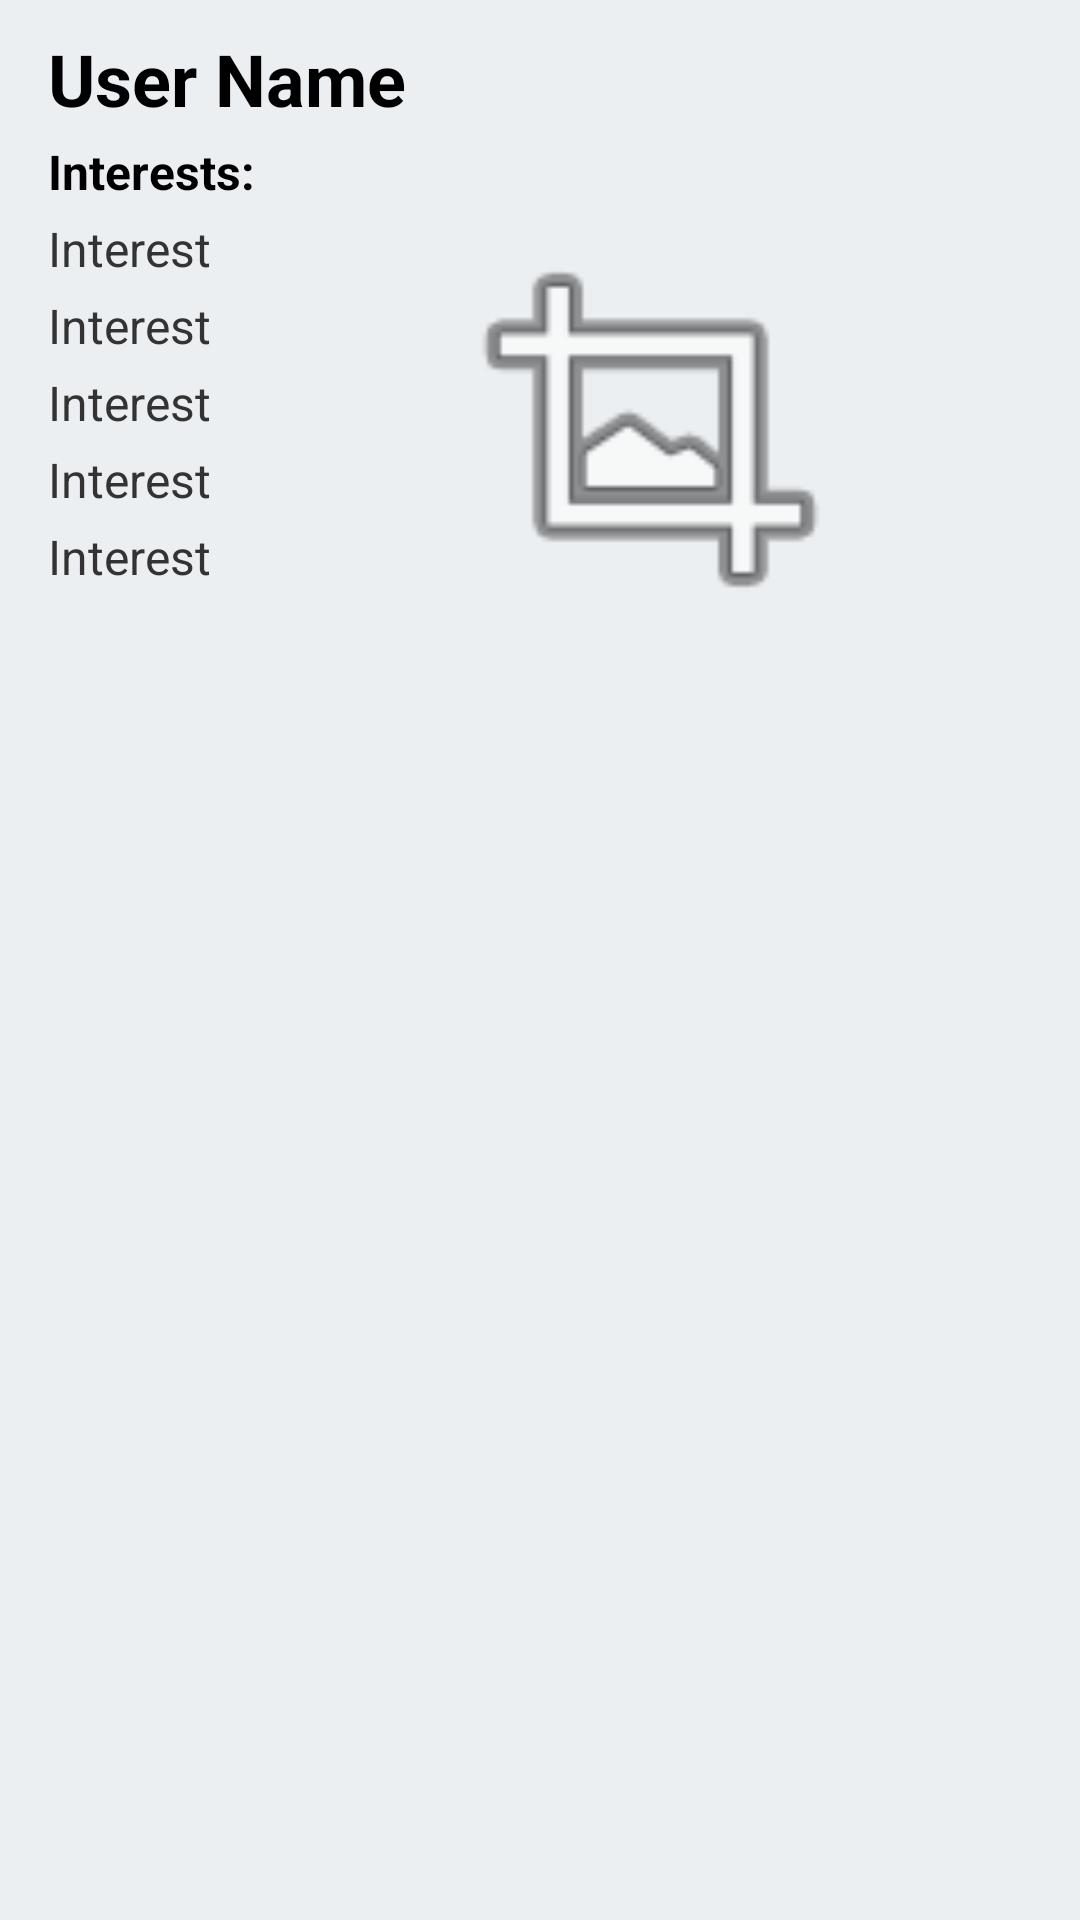

Named icons in this screenshot (1080px x 1920px) and their bounding boxes, (x1, y1, x2, y2):
crop: (485, 272, 816, 587)
